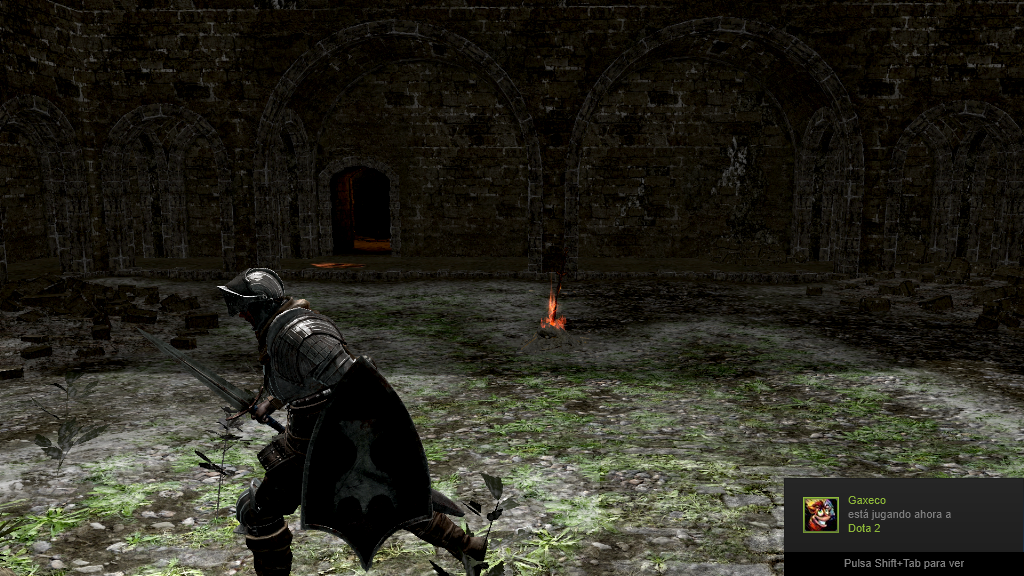bonfire: (538, 248, 576, 338)
player: (133, 265, 490, 576)
